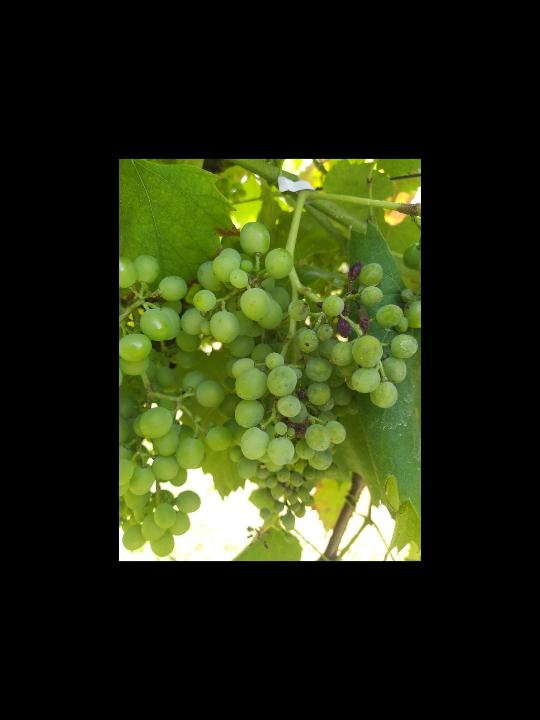grape: (181, 221, 419, 481)
